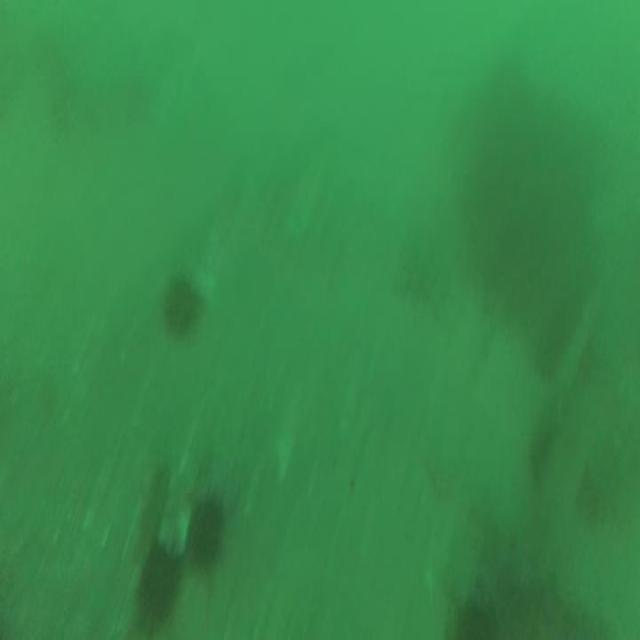echinus: (125, 534, 186, 639), (185, 491, 228, 577), (161, 268, 204, 344)
